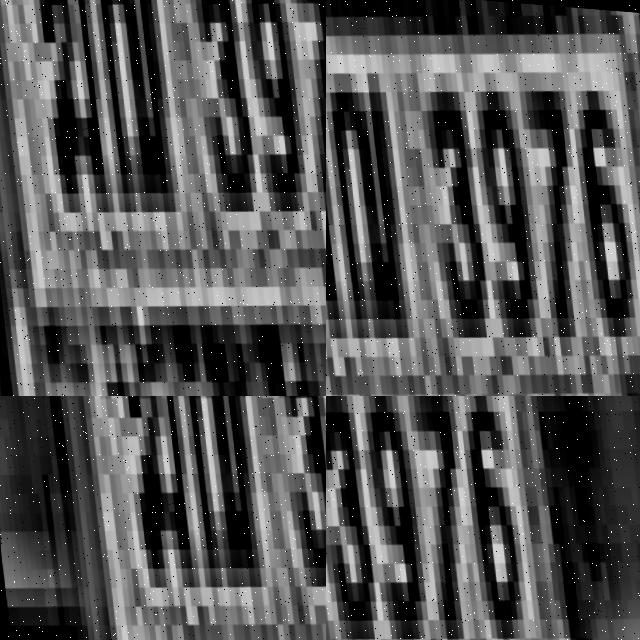license-plate: (0, 0, 326, 396), (326, 0, 640, 396), (326, 396, 594, 640)
